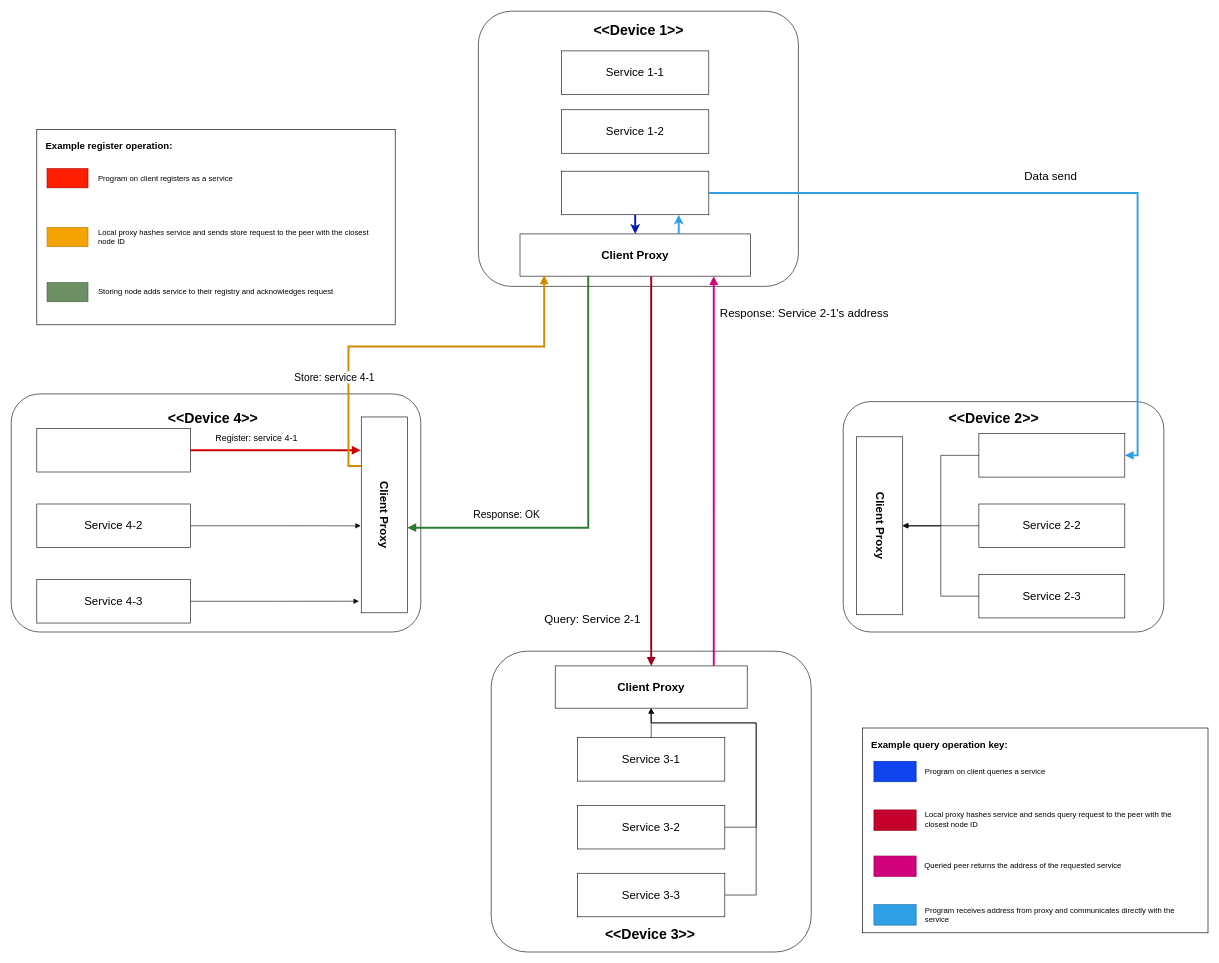
Some shapes in this 1219 by 963 pixel diagram are drawn without their labels. The centre of each missing label's shape, as x and y in pixels:
Service 1-3: the point at 635,193
Service 2-1: the point at 1051,455
Service 4-1: the point at 113,450
